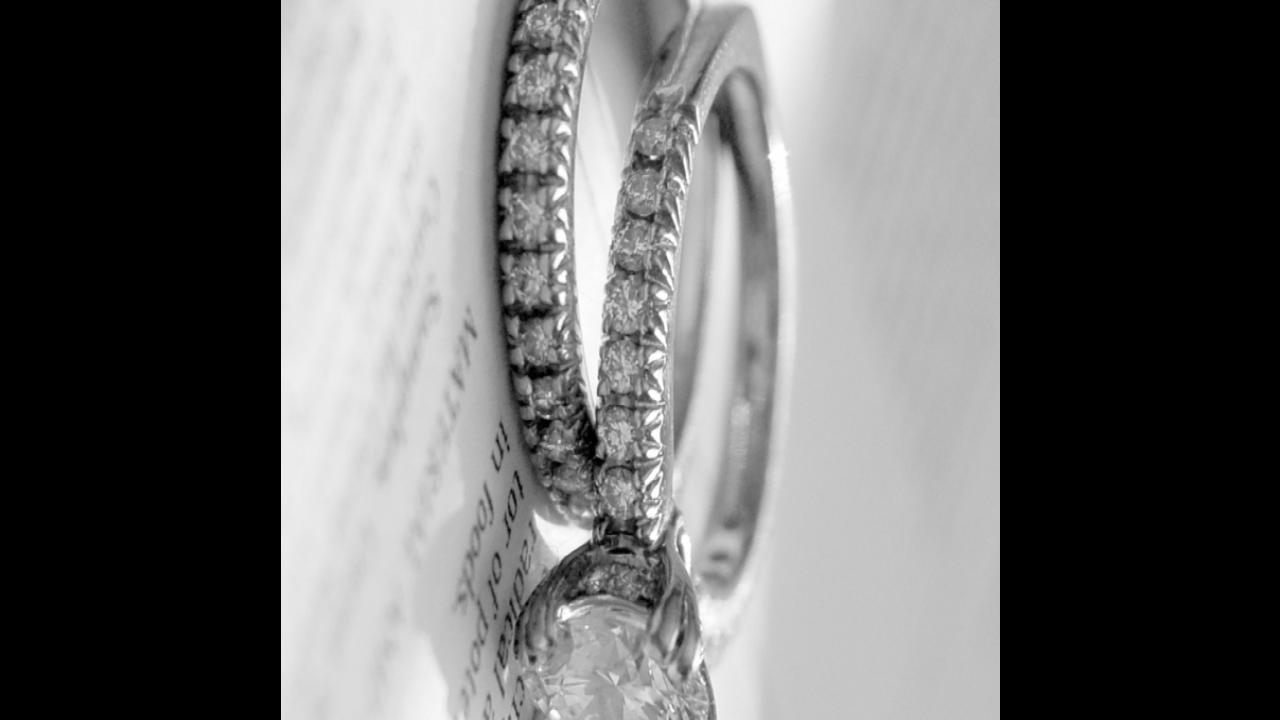ring: (510, 0, 804, 720), (490, 0, 726, 527)
